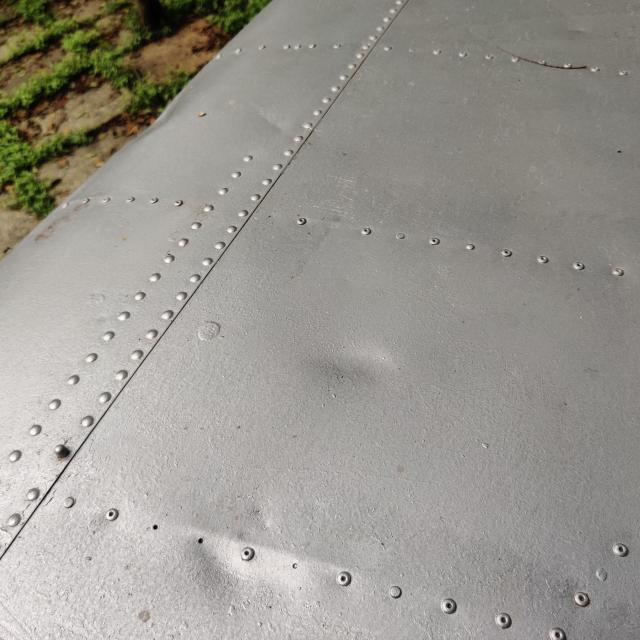dent: (171, 484, 309, 619), (292, 299, 429, 418)
